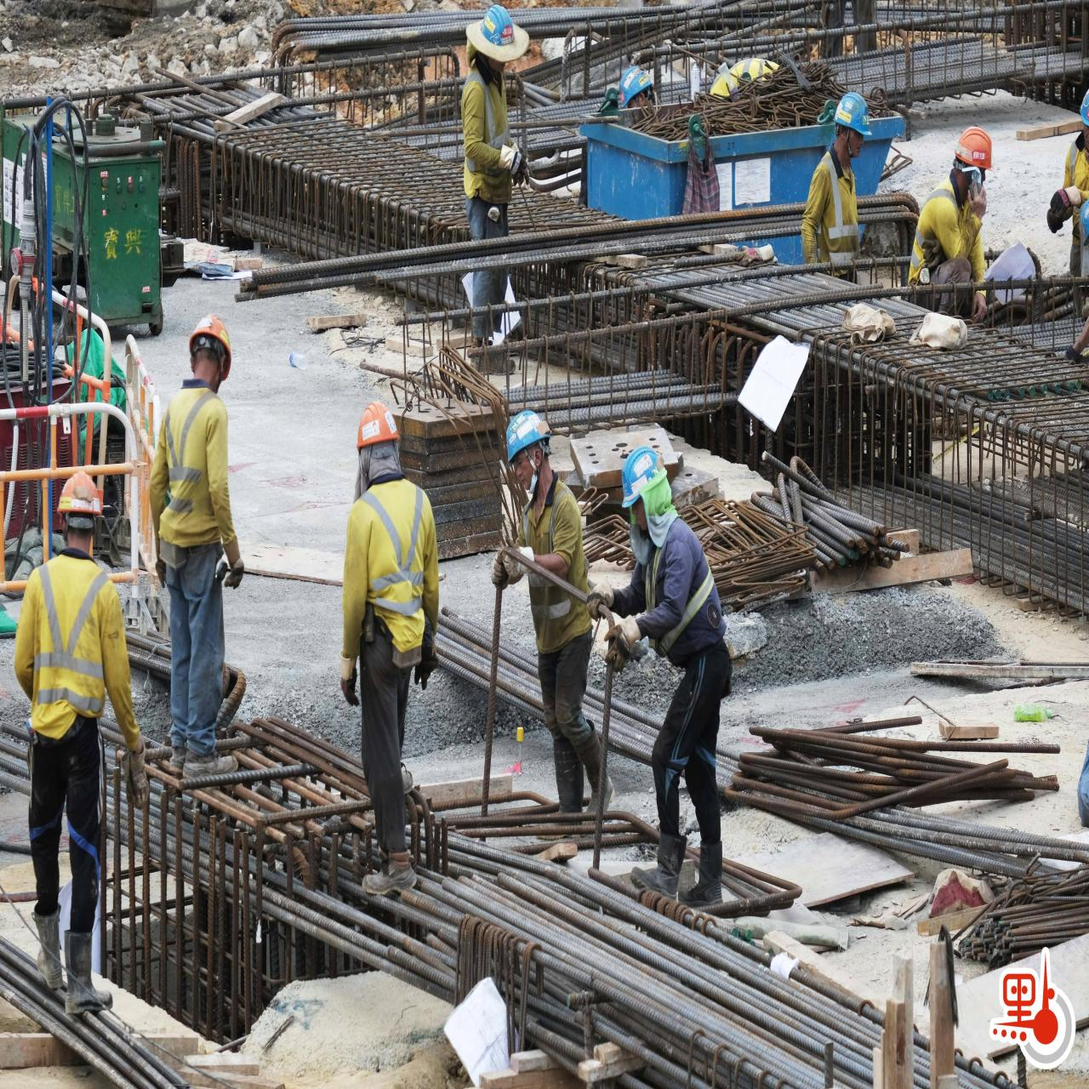NO_Safety_Vest: (11, 552, 136, 756), (338, 479, 446, 680), (502, 481, 600, 659), (633, 510, 731, 683), (148, 380, 241, 562), (451, 71, 531, 218), (909, 176, 990, 296), (799, 144, 862, 278)
Person: (0, 462, 153, 1013), (479, 402, 626, 867), (609, 438, 749, 908), (326, 395, 451, 906), (140, 299, 259, 788), (448, 0, 547, 379), (900, 116, 1000, 325), (788, 81, 881, 295)
